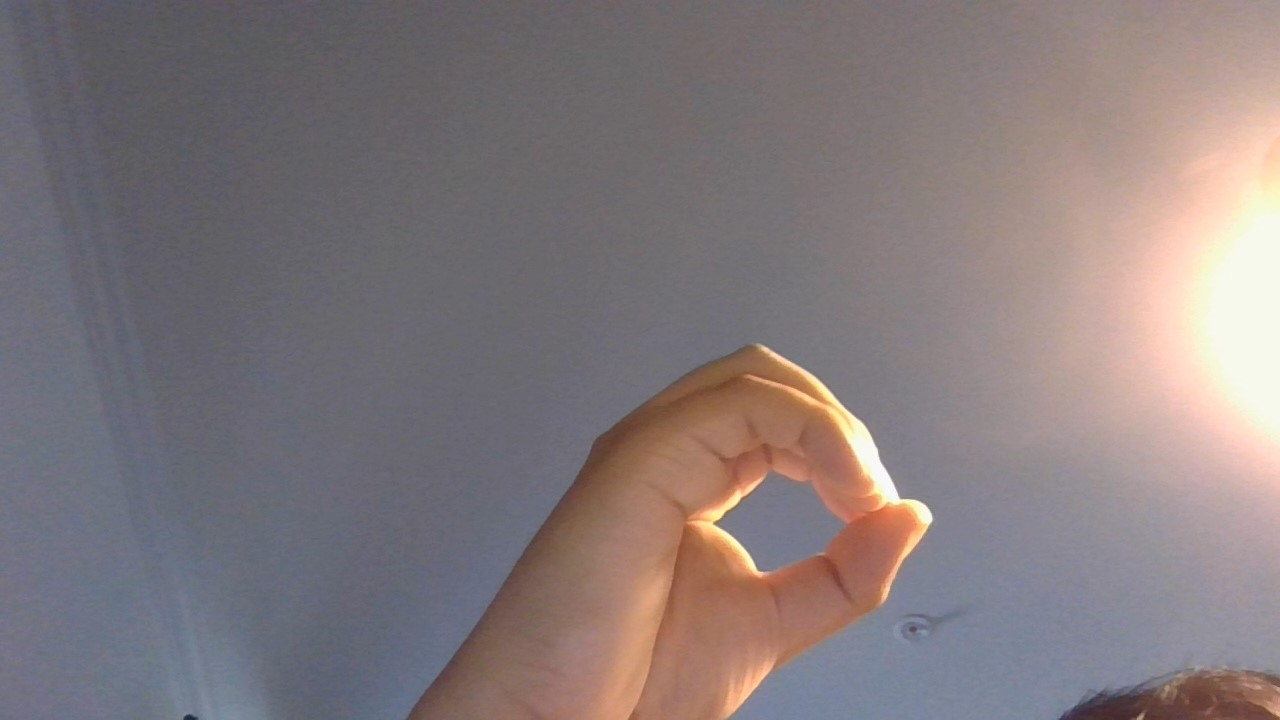o: (330, 311, 992, 720)
